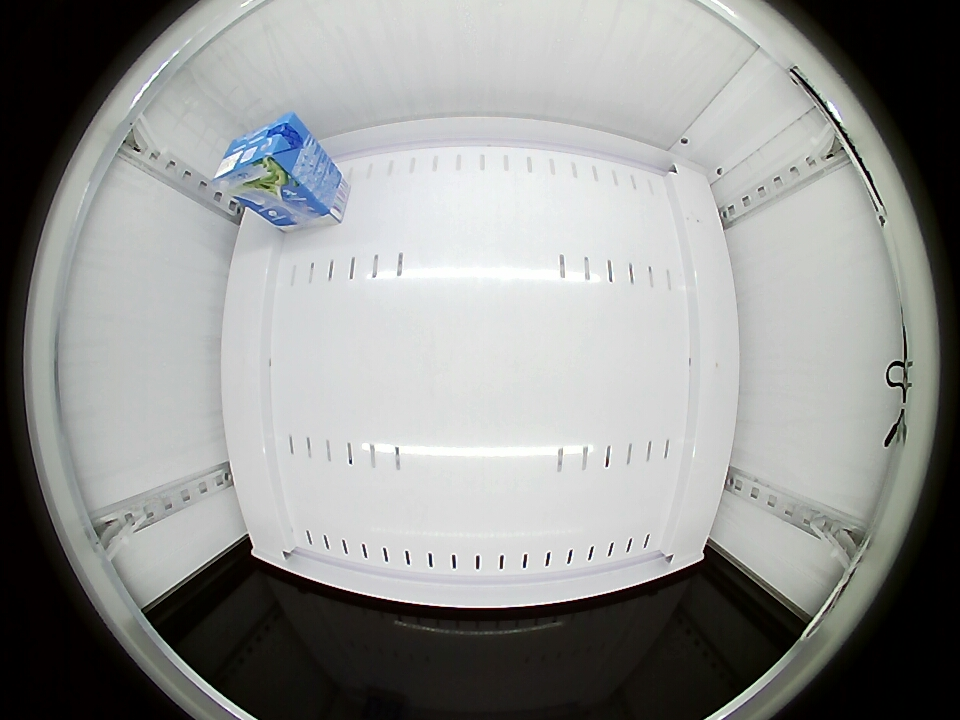weitanai: (210, 113, 311, 198)
